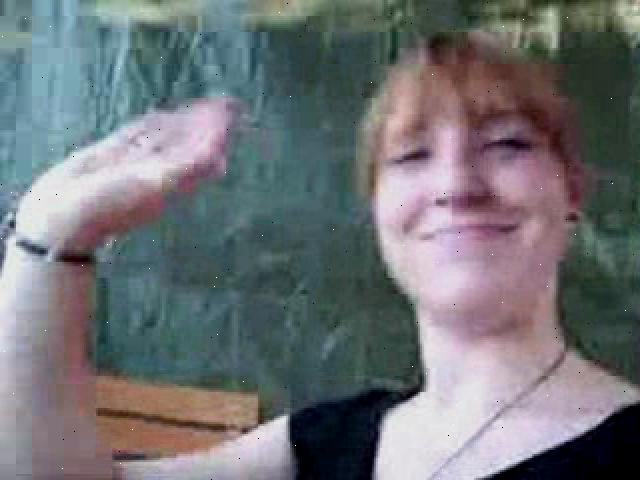T: (6, 40, 639, 478)
